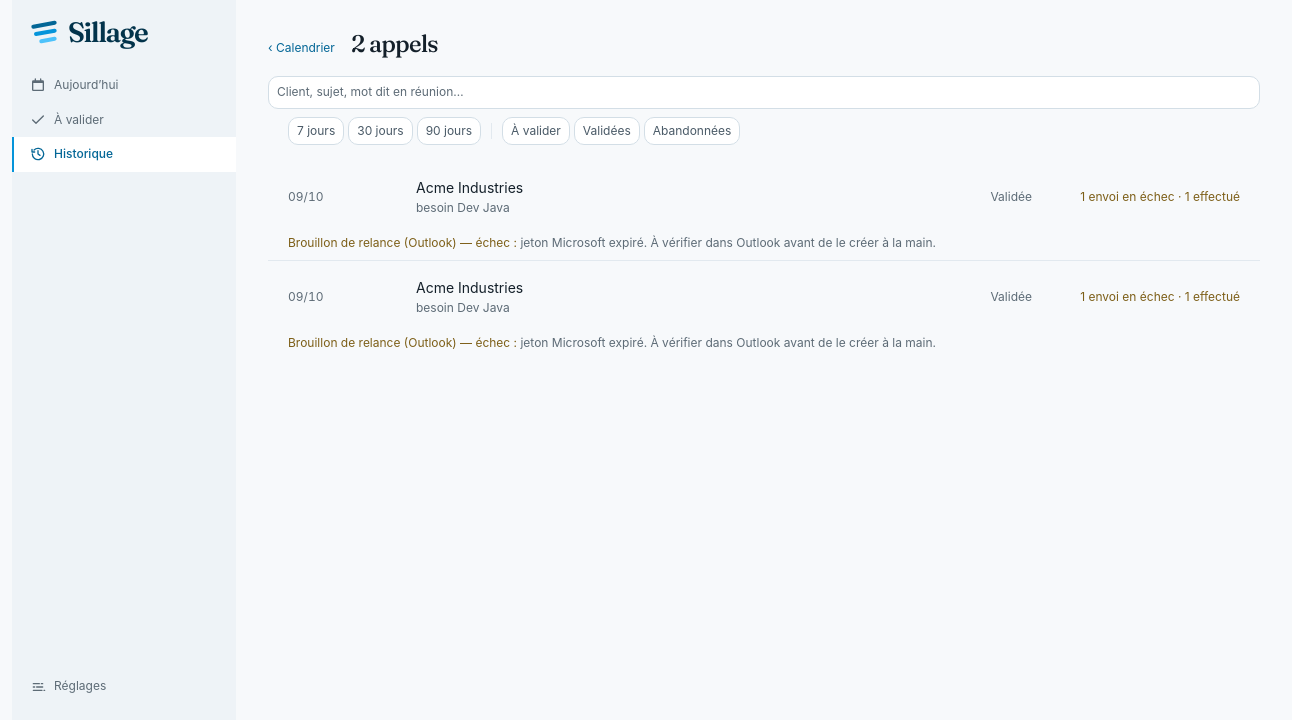
Test case: the screen is named by what it holds, not by what it is (US-22) › the typed query narrows the count and is not restated in it
Type "TJM" into the search field named "Rechercher un client, un sujet, une transcription ou une note".
click(764, 93); type("TJM")  # box [268,76,1260,109]
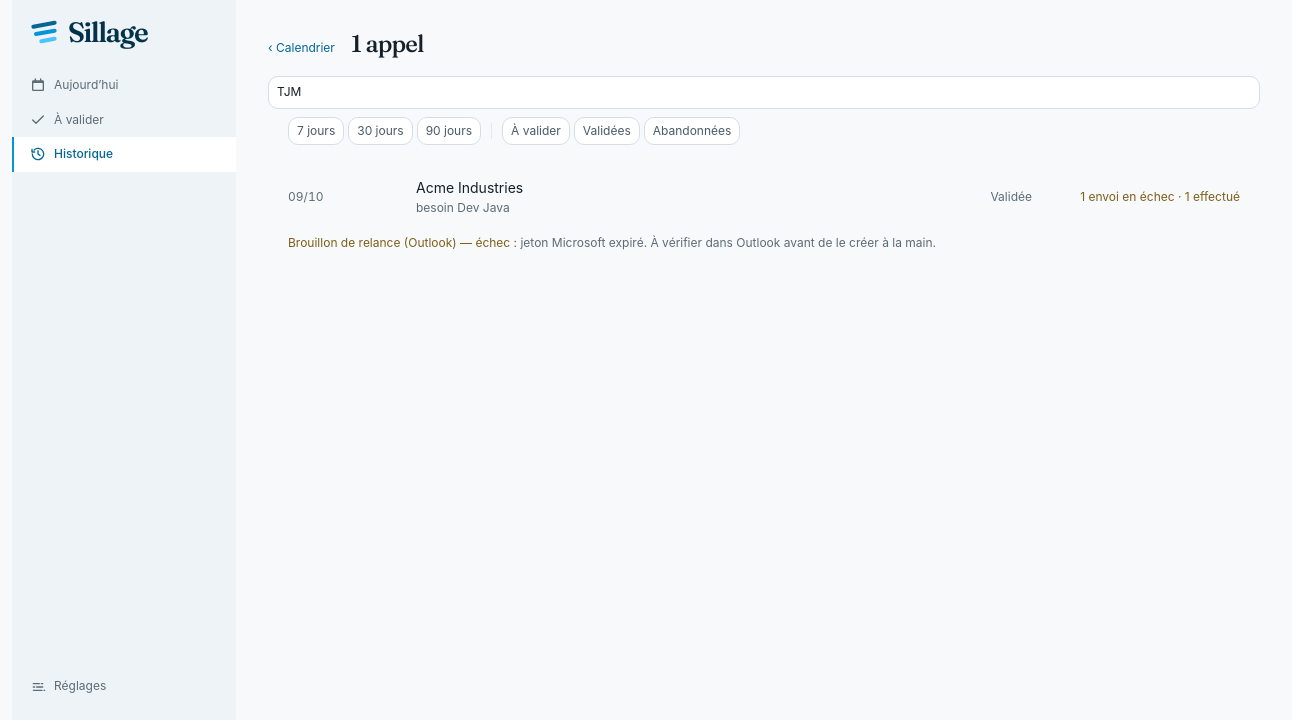
Expected: the heading does not show "TJM"
Result: the heading reads "1 appel" at [351,29,424,58]
